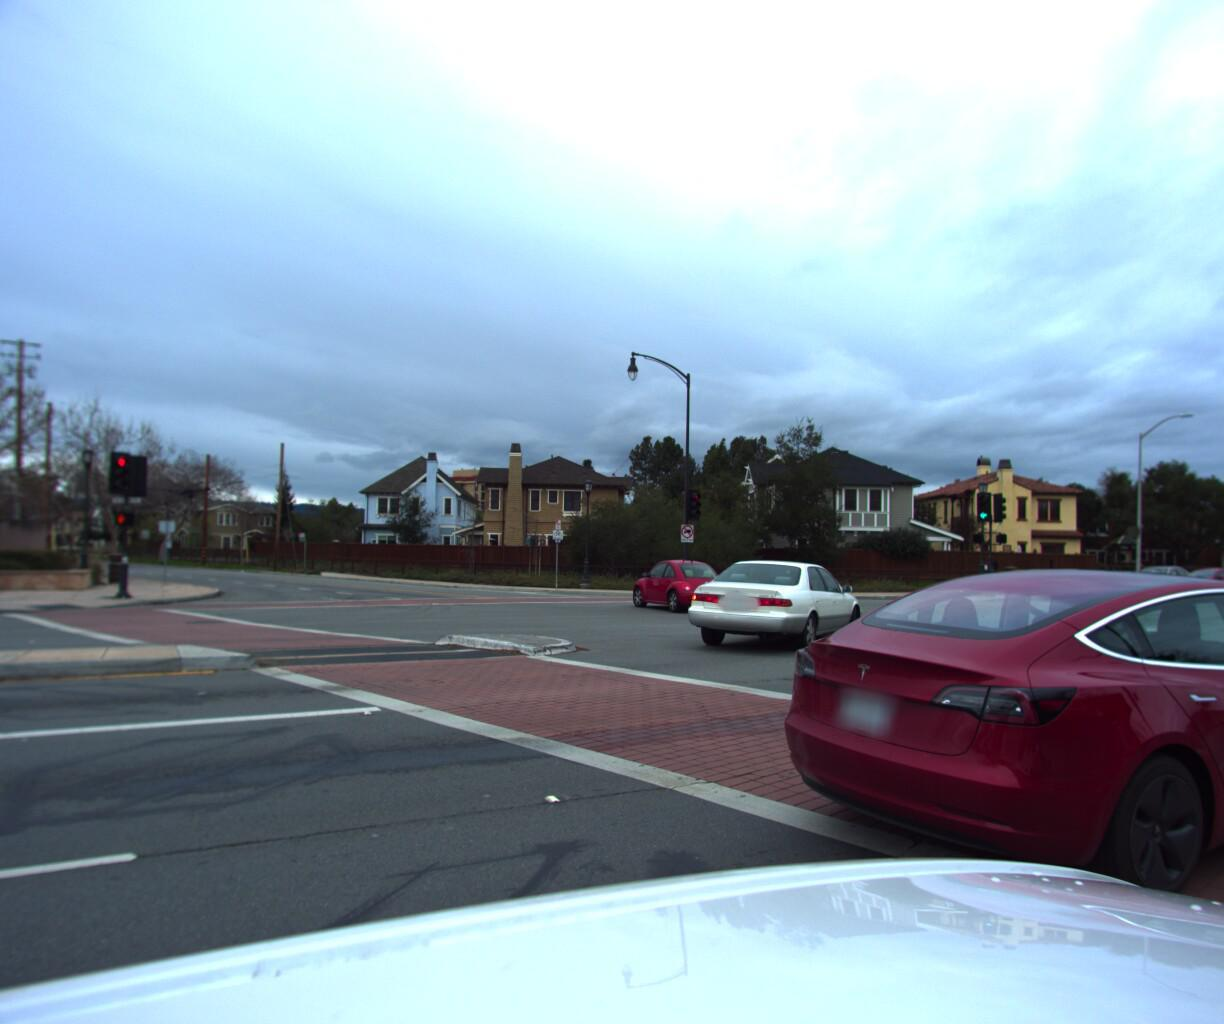car: (742, 541, 1224, 954), (657, 558, 877, 662), (624, 552, 744, 613), (1109, 560, 1202, 594), (1160, 561, 1224, 593)
